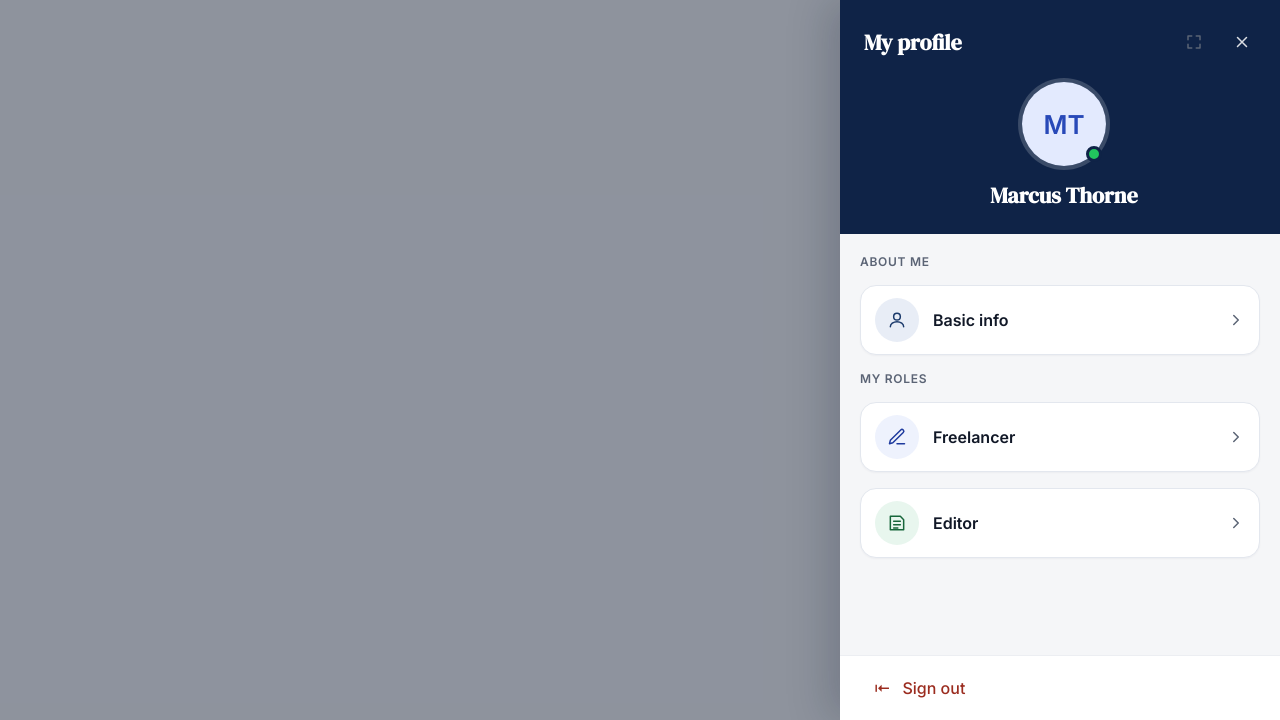
Scenario: ProfilePanel › opens a role in its own drawer with all of its fields
This screenshot has width=1280, height=720.
Click the button with aria-label "Open Freelancer details" at (897, 437), box [860, 402, 1260, 472]
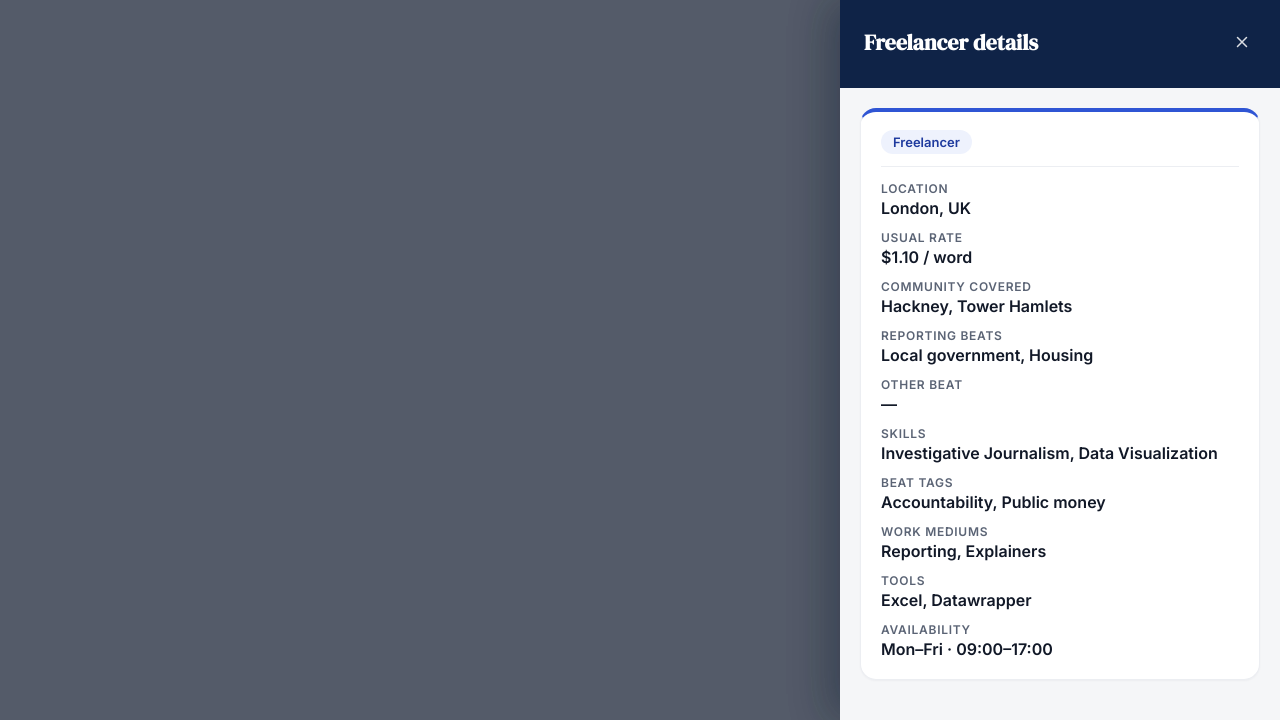
Expected: the dialog "My profile" is shown, [840, 0, 1279, 719]
Result: the text "Usual rate" is shown at [881, 230, 963, 245]
Result: the text "Reporting beats" is shown at [881, 328, 1003, 343]
